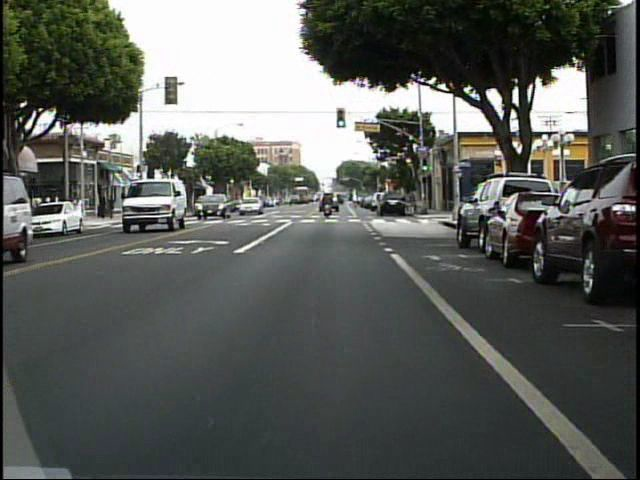person: (321, 189, 337, 219), (109, 193, 119, 220)
